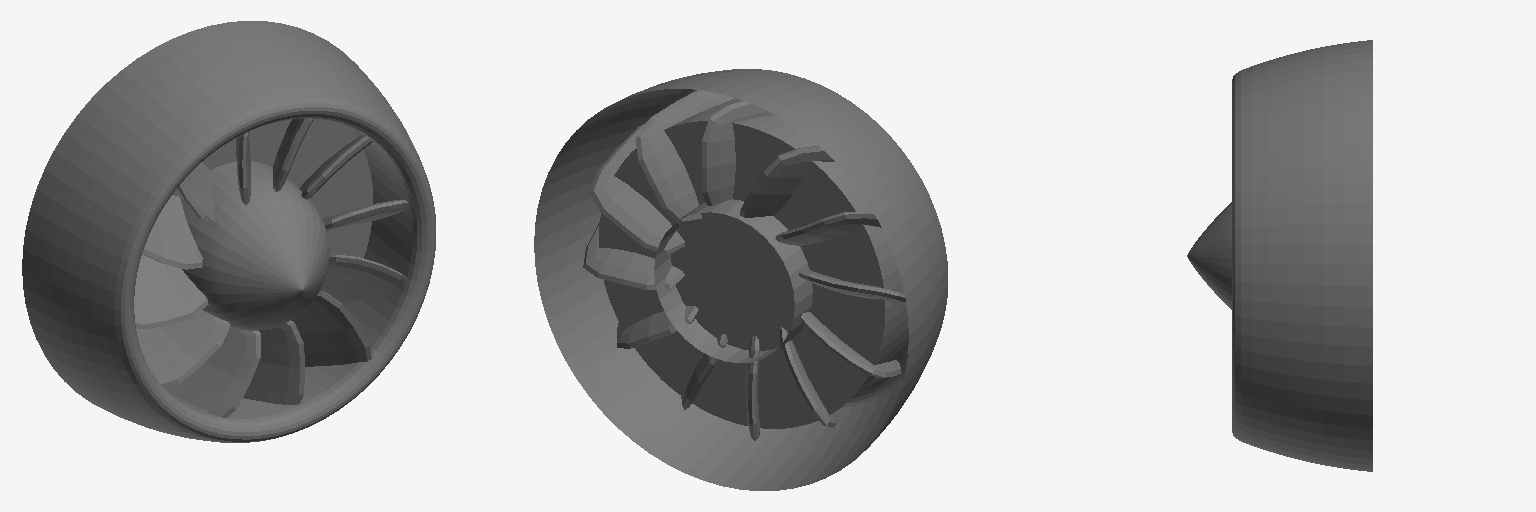
File: Turbine.obj
3 renders of one model, left to right at view 1: azimuth 30°, elevation 25°; view 2: azimuth 150°, elevation 25°; view 3: azimuth 270°, elevation 25°, orthographic.
Parts seen in each view (by area): view 1: PM3D_Cylinder3D1, PM3D_Cube3D1, PM3D_Cone3D1; view 2: PM3D_Cylinder3D1, PM3D_Cube3D1, PM3D_Cone3D1; view 3: PM3D_Cylinder3D1, PM3D_Cone3D1.
Part boxes in pixels (x1,y1,x2,y2): PM3D_Cylinder3D1: (22,21,435,442); PM3D_Cube3D1: (134,118,408,417); PM3D_Cone3D1: (180,161,329,330); PM3D_Cylinder3D1: (534,69,947,490); PM3D_Cube3D1: (583,90,906,440); PM3D_Cone3D1: (654,199,812,362); PM3D_Cylinder3D1: (1232,40,1372,471); PM3D_Cone3D1: (1187,202,1231,309).
Size of the model in its own units: 1.53 by 1.53 by 0.6577.